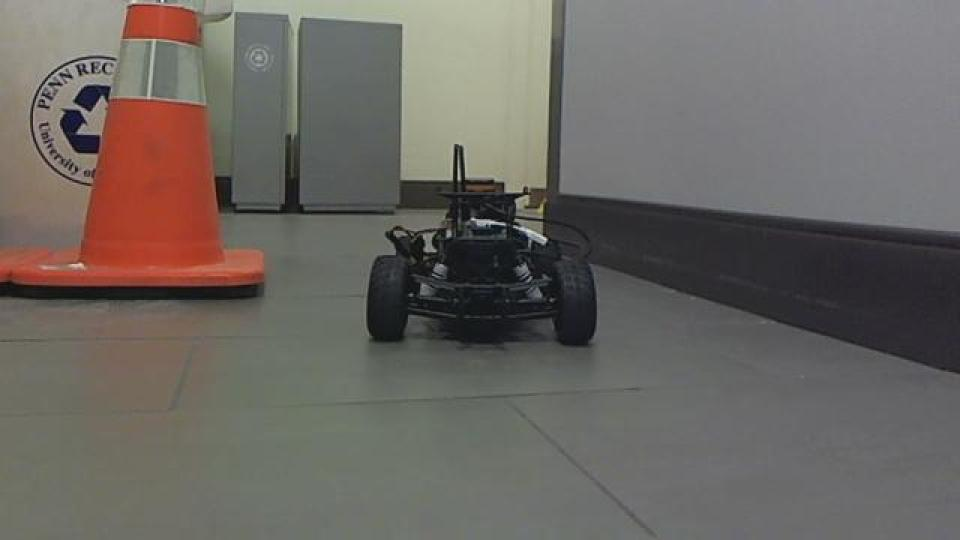car: (362, 142, 600, 348)
